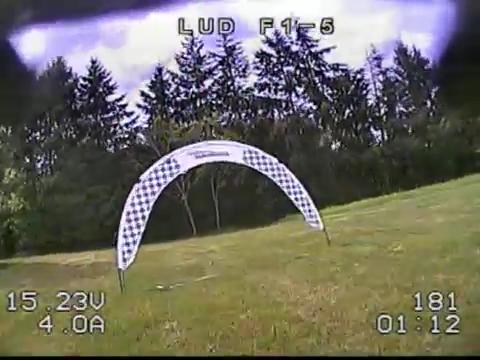gate: (115, 139, 326, 271)
